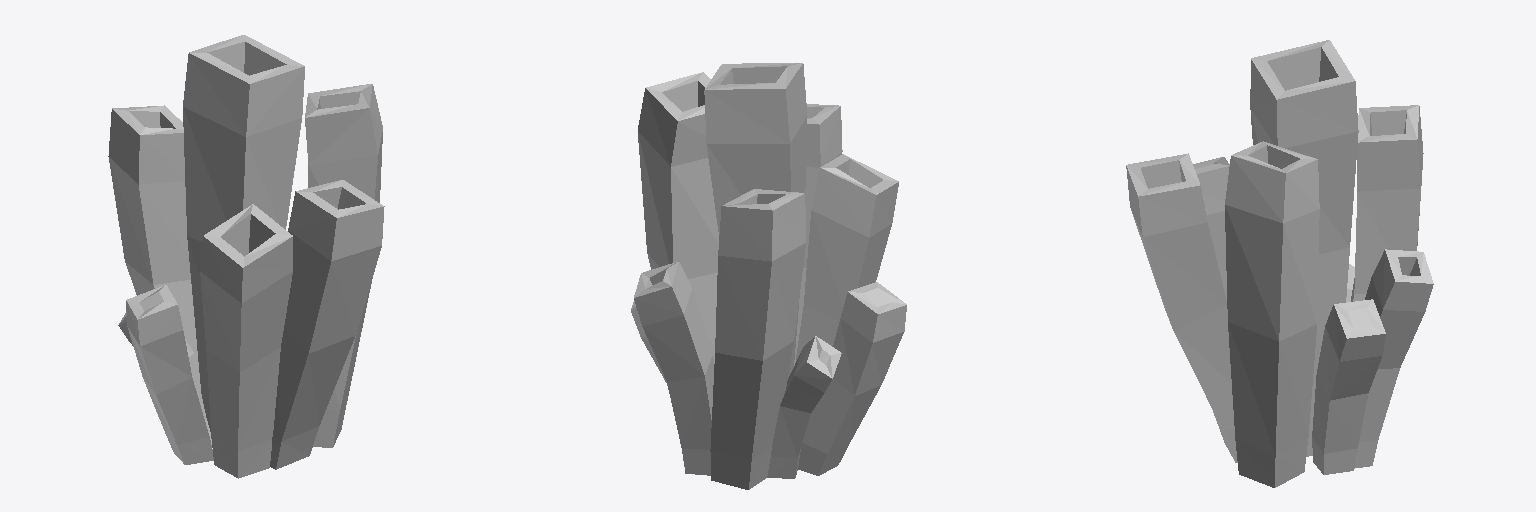
Rendered from Coral_C_02_LOD3.obj.
3 views of the same model, side by side, from view 1: azimuth 30°, elevation 25°; view 2: azimuth 150°, elevation 25°; view 3: azimuth 270°, elevation 25° (orthographic).
Parts seen in each view (by area): view 1: Coral_C_02_LOD3_Cylinder.439; view 2: Coral_C_02_LOD3_Cylinder.439; view 3: Coral_C_02_LOD3_Cylinder.439.
Boxes of the visible parts, <box> form: Coral_C_02_LOD3_Cylinder.439: <box>108,35,384,478</box>; Coral_C_02_LOD3_Cylinder.439: <box>631,63,906,489</box>; Coral_C_02_LOD3_Cylinder.439: <box>1126,40,1433,487</box>.
Bounding box in the file's own units: 4.01 × 5.83 × 4.15.